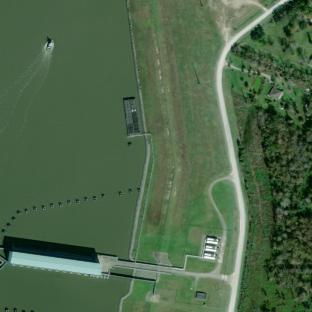Floresta: (257, 95, 312, 312)
